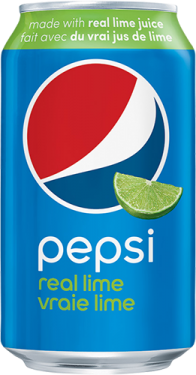pepsi: (21, 58, 167, 213), (21, 61, 167, 213), (24, 61, 167, 213)
